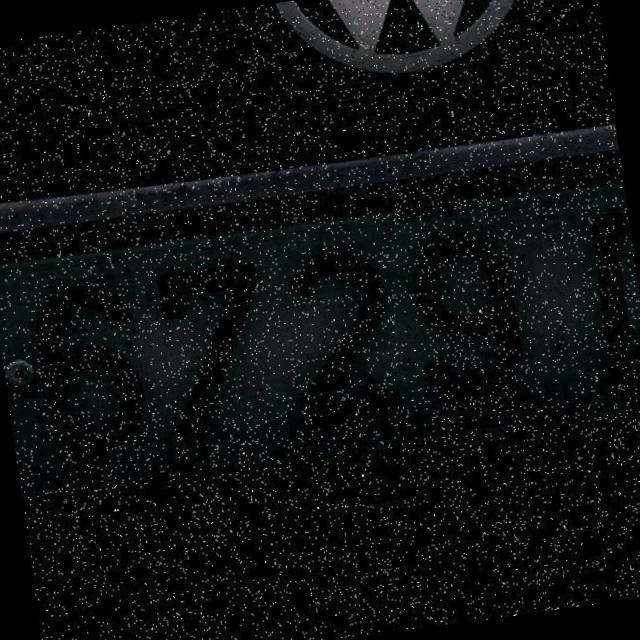LicensePlate: (0, 132, 640, 548)
